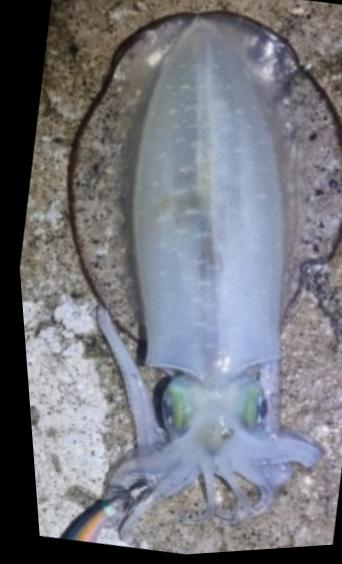Cephalopod: (62, 15, 342, 556)
